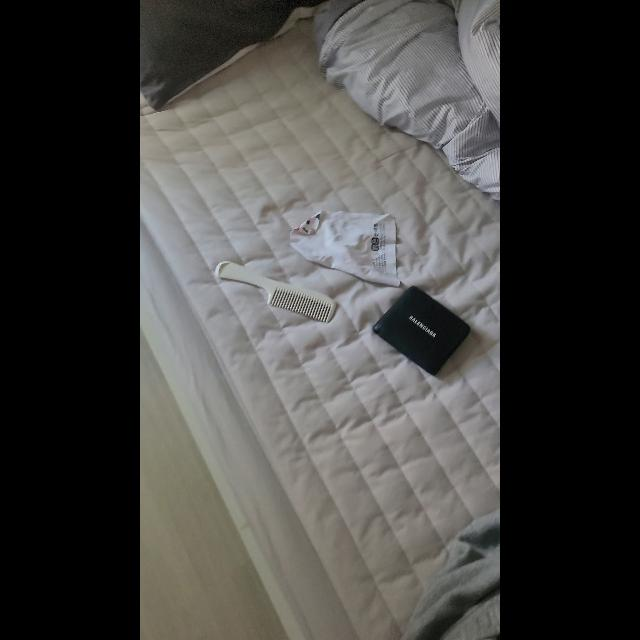COMB: (214, 261, 336, 323)
Glasses cleaning cloth: (290, 210, 400, 286)
WALLET: (372, 286, 470, 376)
